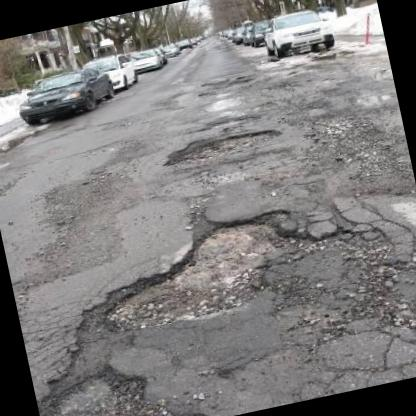pothole: (80, 195, 330, 337), (42, 358, 156, 416), (164, 122, 287, 172)
